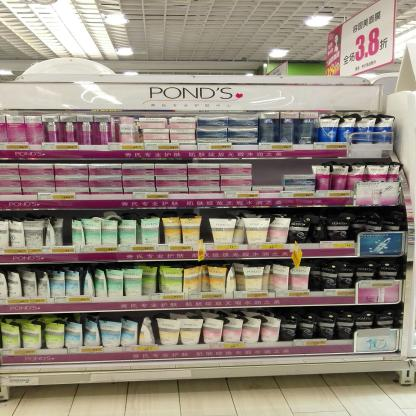Void: (250, 162, 282, 184), (287, 159, 311, 173)
